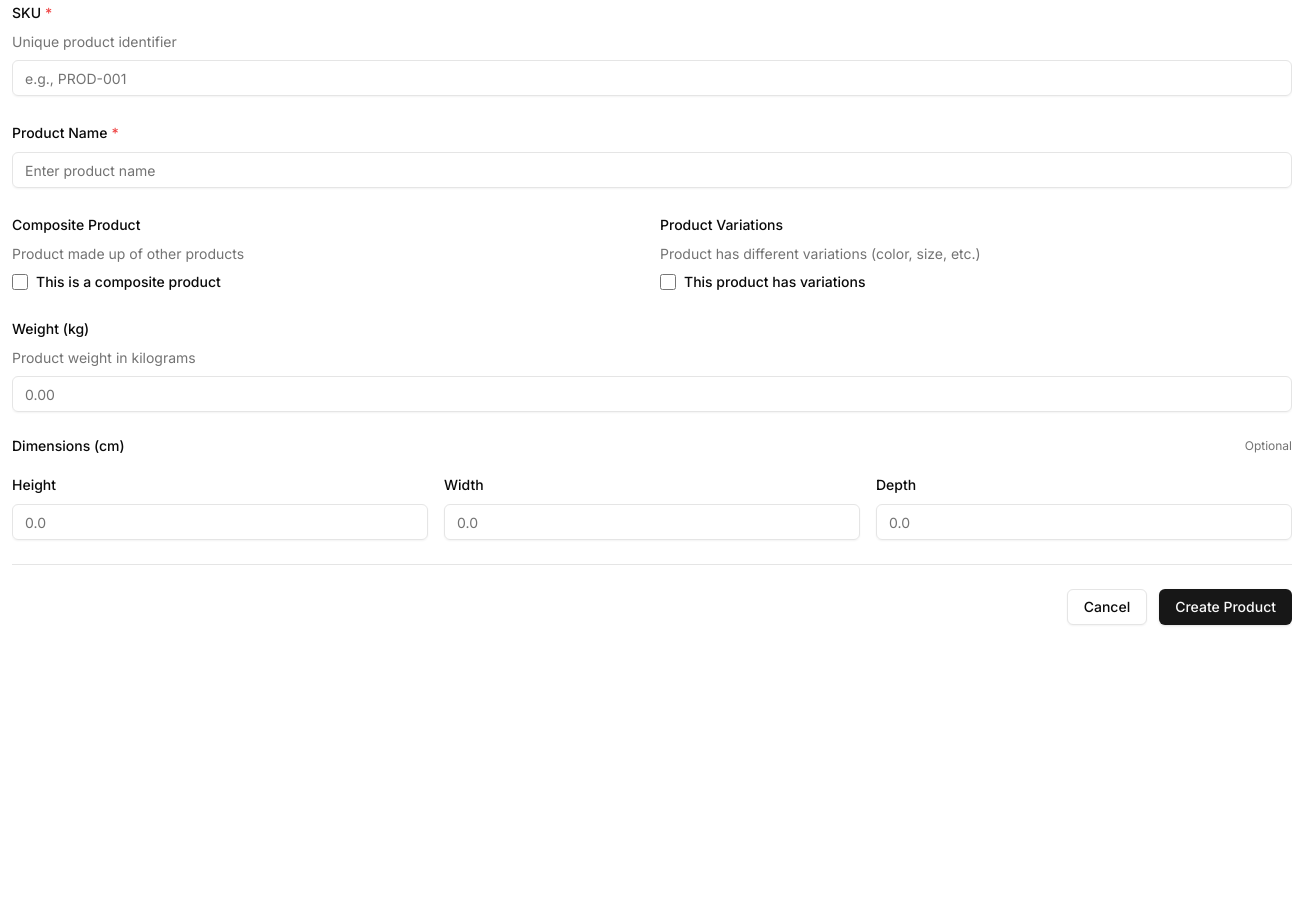
Test: ProductForm › changes submit label to Next when flags are enabled
The width and height of the screenshot is (1304, 900).
Click the checkbox labelled "This is a composite product". click: (20, 282)
box: [12,274,28,290]
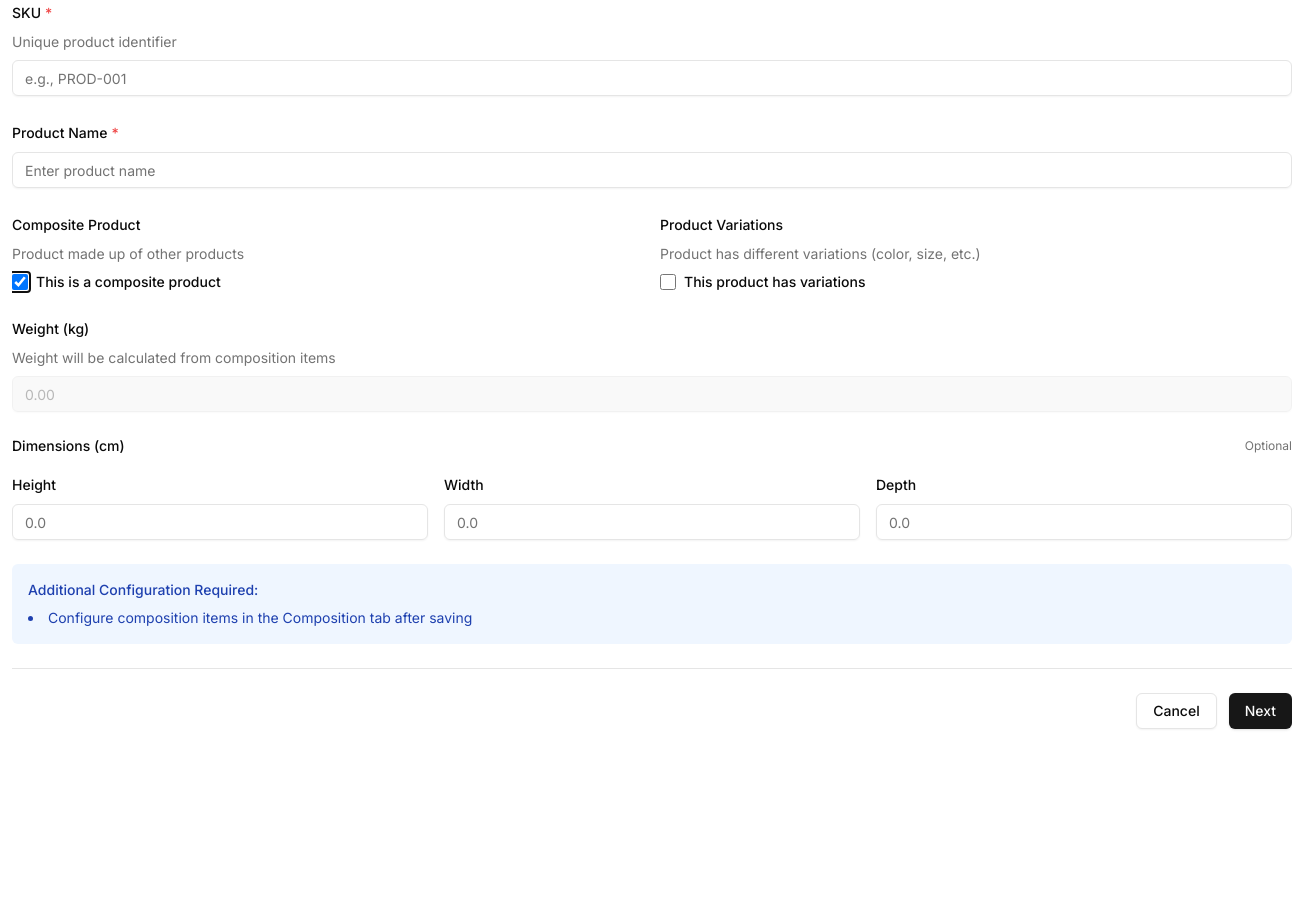
expect the button "Next" is shown: met, box [1229,693,1292,729]
